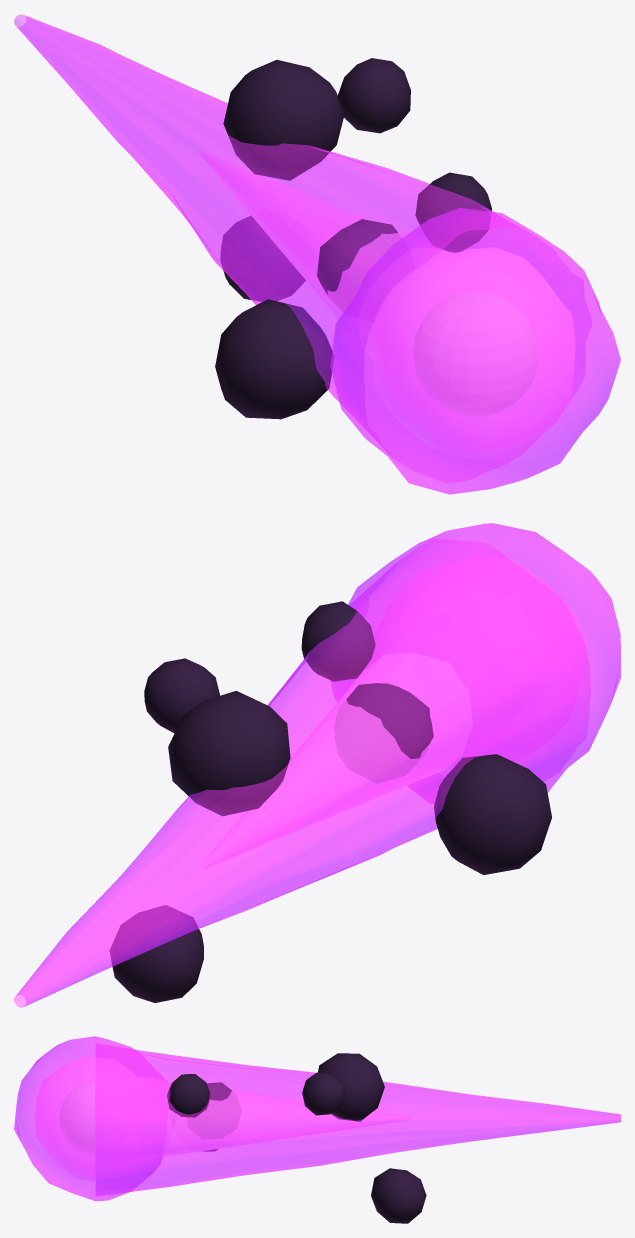
File: ASHWYRM_voidfire_fireball_vfx.fbx
The picture shows the model from 3 angles, top to bottom: view 1: azimuth 30°, elevation 25°; view 2: azimuth 150°, elevation 25°; view 3: azimuth 270°, elevation 25°; orthographic projection. The views are drawn at different scales.
Visible parts, largest first — view 1: ASHWYRM_voidfire_fireball_vfx; view 2: ASHWYRM_voidfire_fireball_vfx; view 3: ASHWYRM_voidfire_fireball_vfx.
Part boxes in pixels (x1,y1,x2,y2): ASHWYRM_voidfire_fireball_vfx: [14, 14, 620, 494]; ASHWYRM_voidfire_fireball_vfx: [14, 523, 620, 1007]; ASHWYRM_voidfire_fireball_vfx: [14, 1036, 620, 1223].
Size of the model in its own units: 0.3995 by 0.3791 by 1.27.
